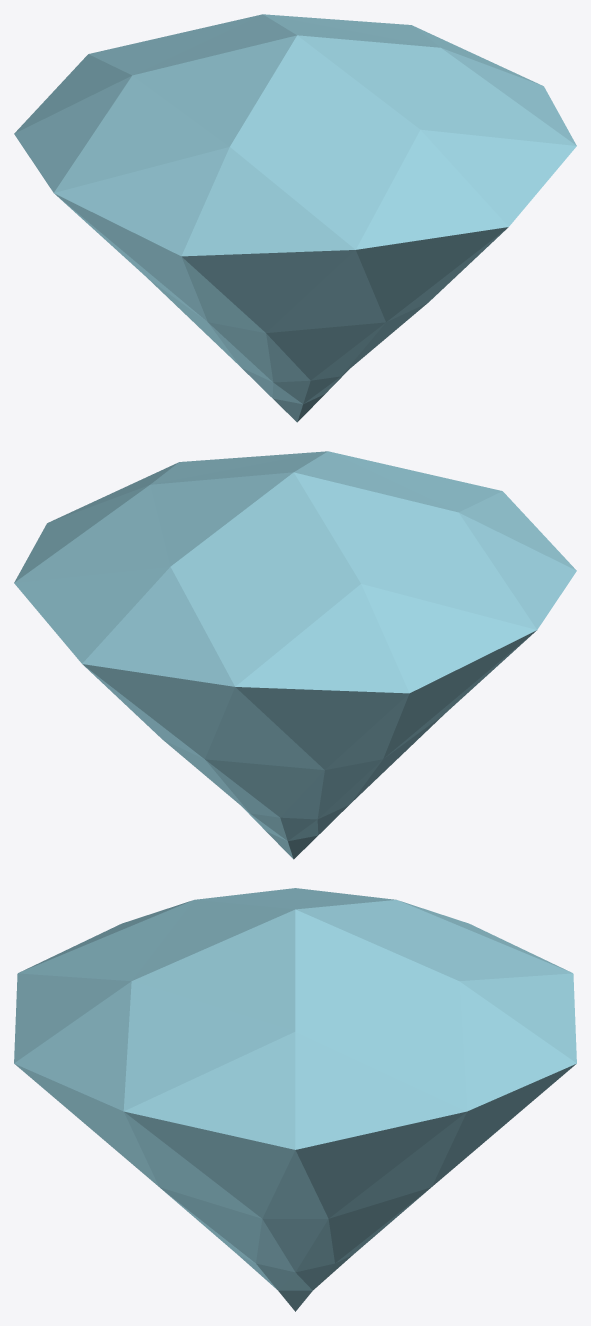
Rendered from bettergemmaybe.dae.
3 renders of one model, top to bottom at view 1: azimuth 30°, elevation 25°; view 2: azimuth 150°, elevation 25°; view 3: azimuth 270°, elevation 25°, orthographic. The views are drawn at different scales.
Parts seen in each view (by area): view 1: Icosphere; view 2: Icosphere; view 3: Icosphere.
Part boxes in pixels (box(x1,y1,x2,y2)): Icosphere: box(14, 14, 576, 422); Icosphere: box(14, 451, 576, 859); Icosphere: box(14, 888, 576, 1311).
Bounding box in the file's own units: 2.23 × 2.13 × 1.68.
